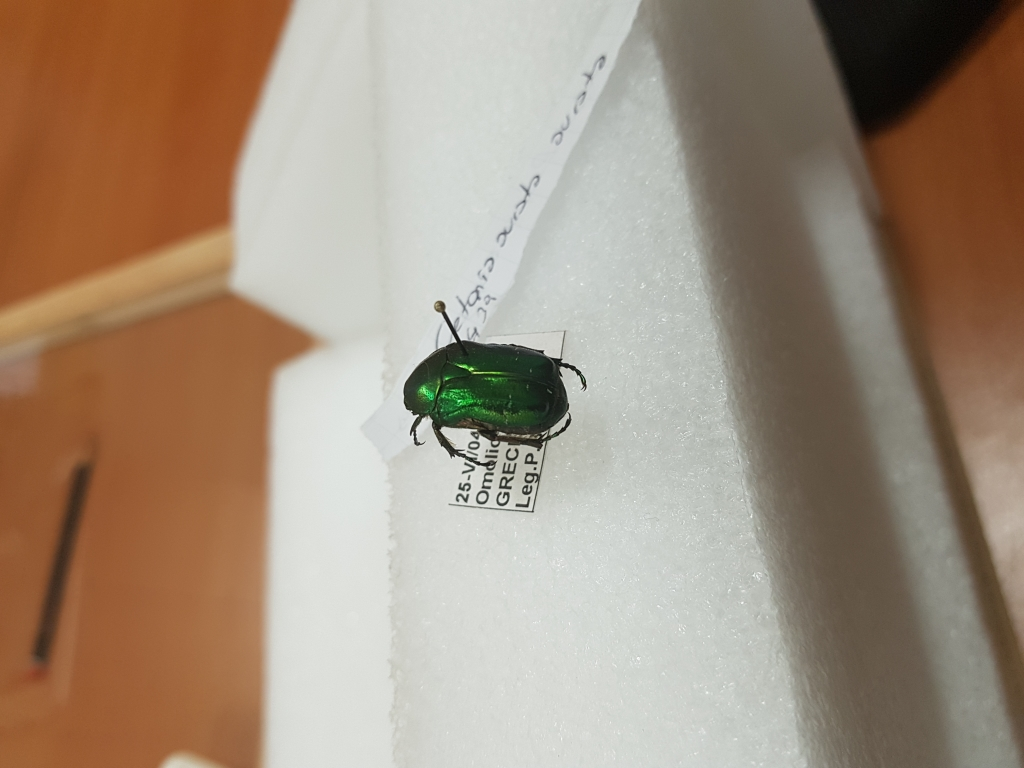Cetonia_aurata: (403, 331, 592, 455)
